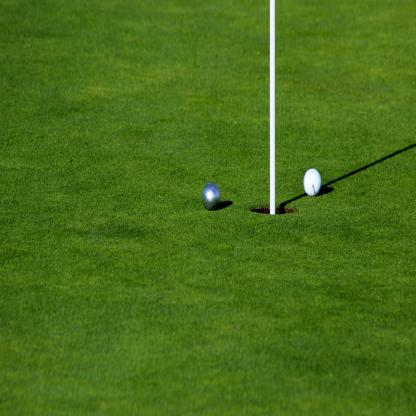Ball: (201, 182, 221, 210), (305, 168, 320, 194)
